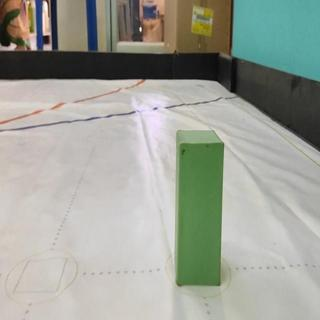greenbox: (175, 129, 225, 288)
